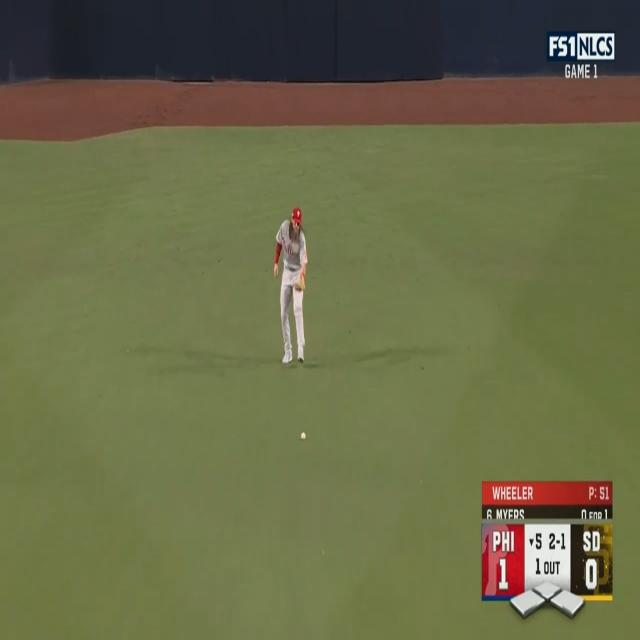baseball: (301, 431, 306, 442)
